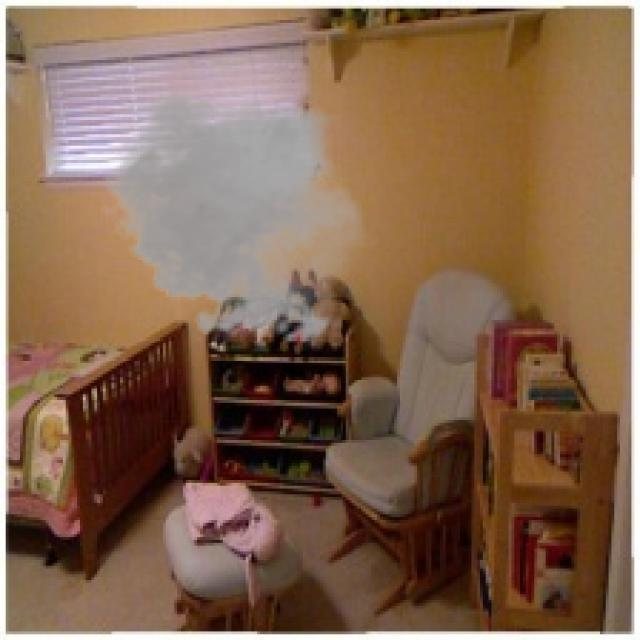Smoke: (94, 82, 377, 352)
